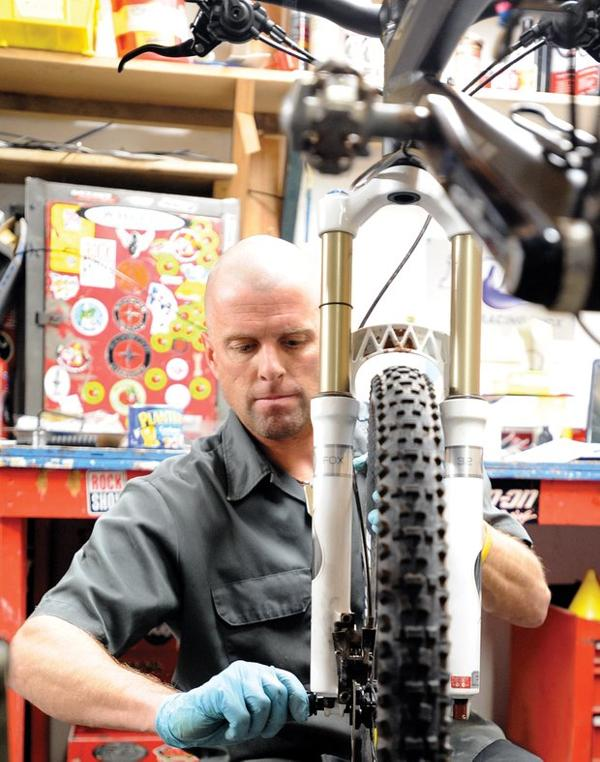person: (3, 225, 555, 762)
